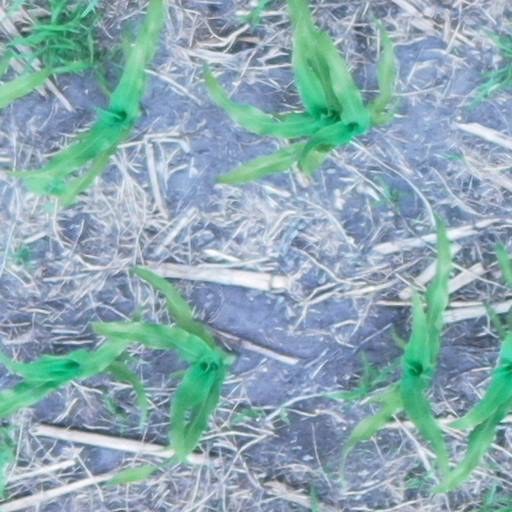planta: (92, 267, 225, 489), (341, 212, 452, 472)
